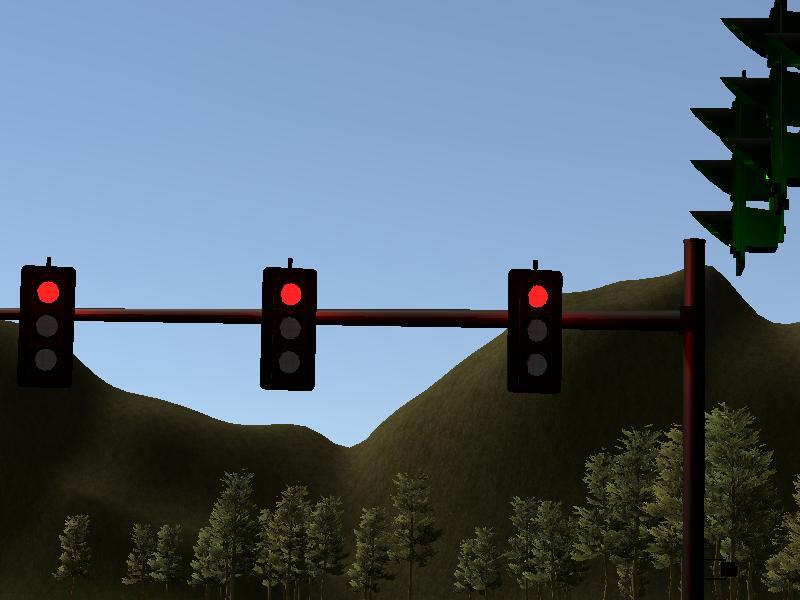Red: (508, 268, 560, 392), (263, 267, 313, 391), (22, 263, 71, 385)
